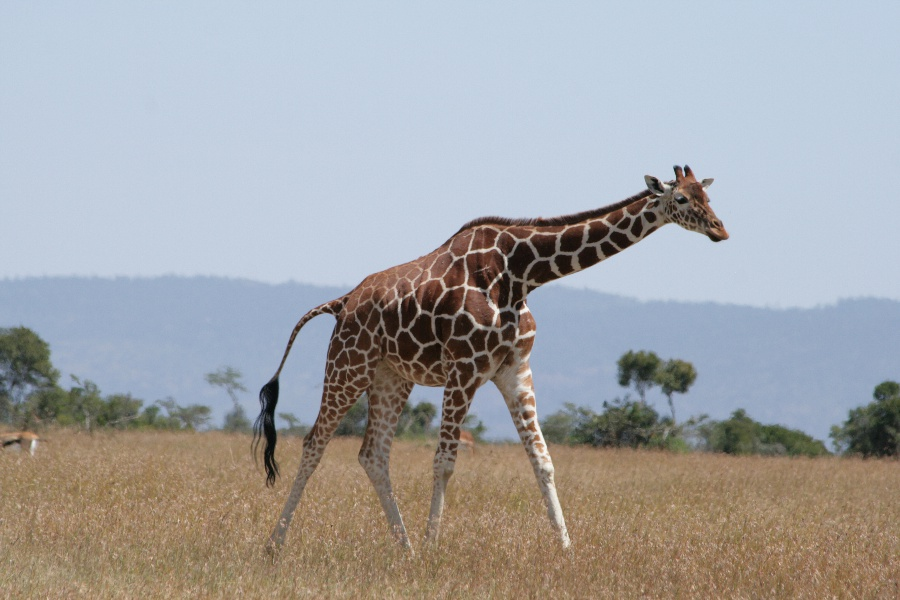giraffe: (254, 152, 738, 551)
